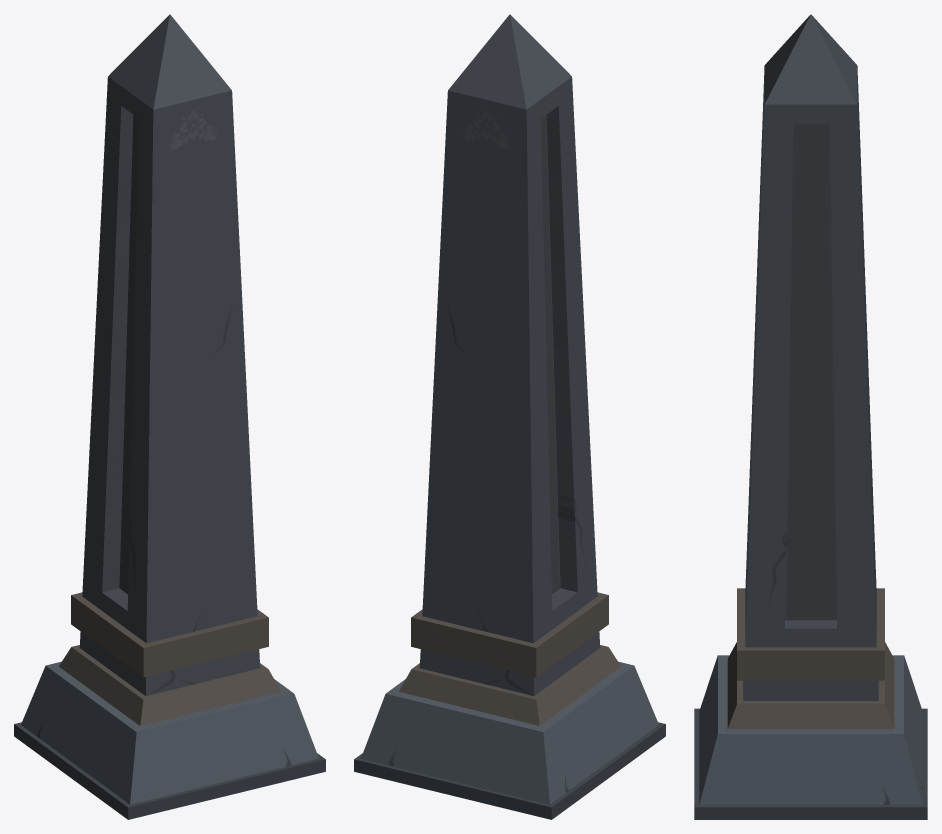
Rendered from Pillar 01.fbx.
The picture shows the model from 3 angles, left to right: view 1: azimuth 30°, elevation 25°; view 2: azimuth 150°, elevation 25°; view 3: azimuth 270°, elevation 25°; orthographic projection. The views are drawn at different scales.
Parts seen in each view (by area): view 1: Pillar_01; view 2: Pillar_01; view 3: Pillar_01.
Boxes of the visible parts, x1,y1,x2,y2 form: Pillar_01: [14, 14, 325, 819]; Pillar_01: [354, 14, 665, 819]; Pillar_01: [694, 14, 927, 819].
Size of the model in its own units: 110 by 395 by 110.
